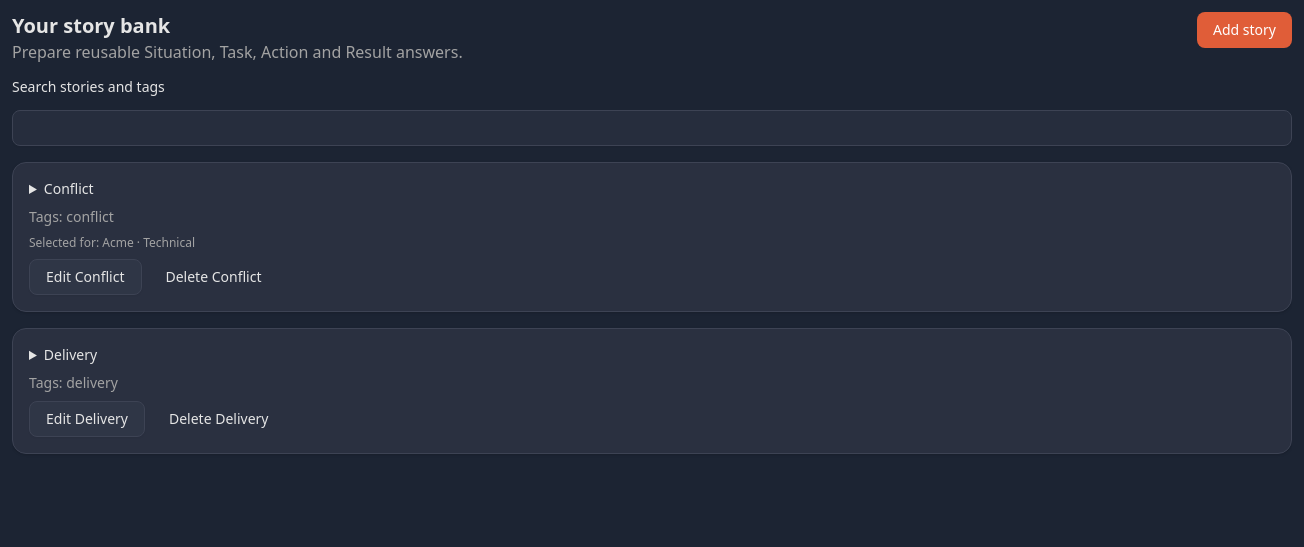
Test: story bank UI › requires confirmation before deleting and refreshes the list
Click the button "Delete Conflict": (214, 277) x1=150 y1=259 x2=278 y2=295
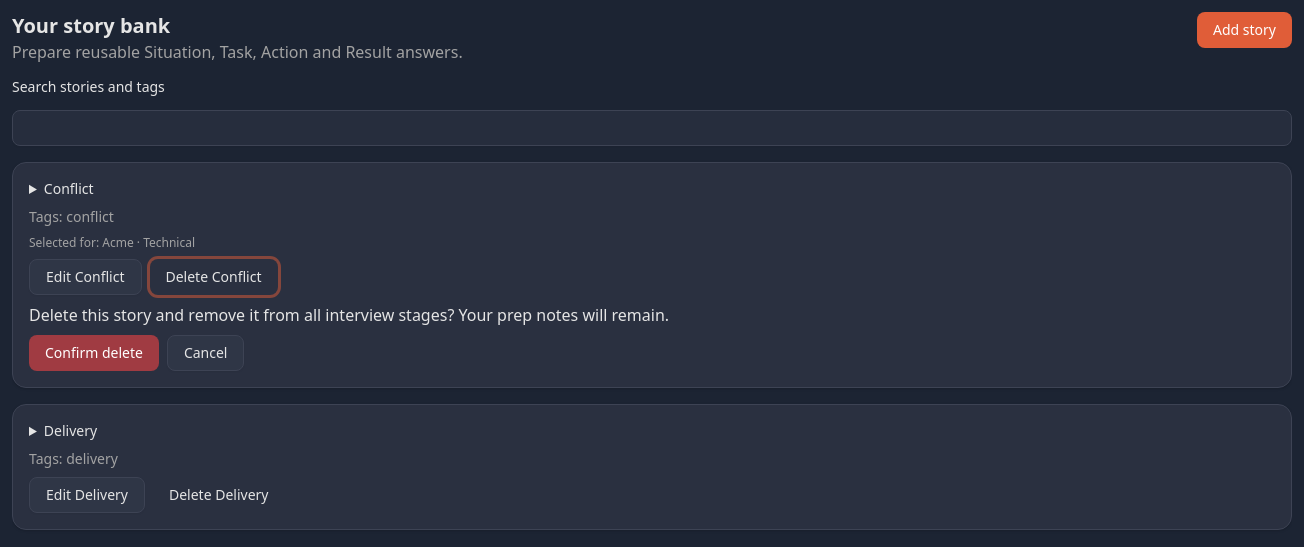
Click the button "Confirm delete": (94, 353) x1=29 y1=335 x2=159 y2=371
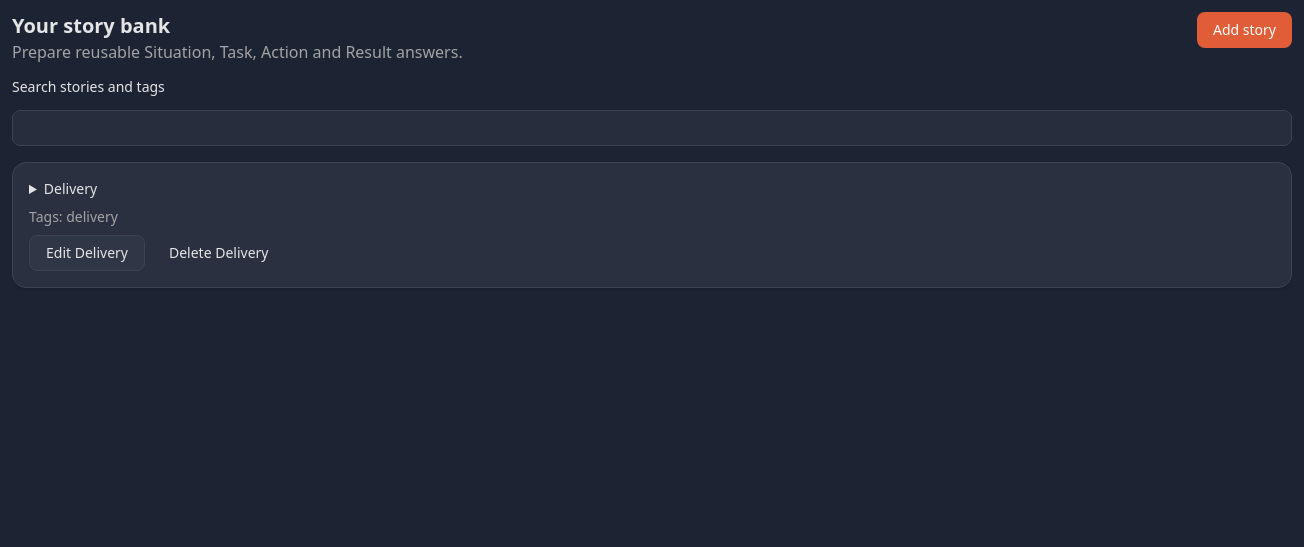
Expected: the heading "Delivery" is shown, x1=44 y1=179 x2=97 y2=198
Now the button "Delete Conflict" is gone
